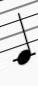LC: (9, 5, 37, 68)
